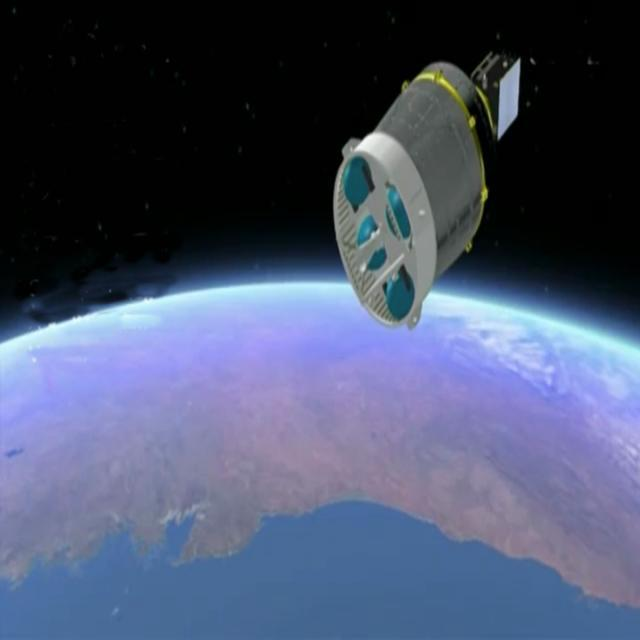sat: (322, 39, 536, 339)
